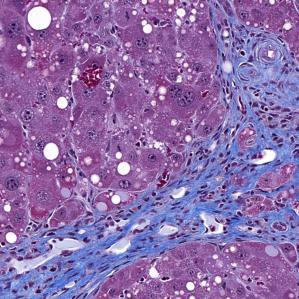fibrosis: (121, 143, 292, 248), (214, 28, 295, 160), (8, 223, 130, 290)
